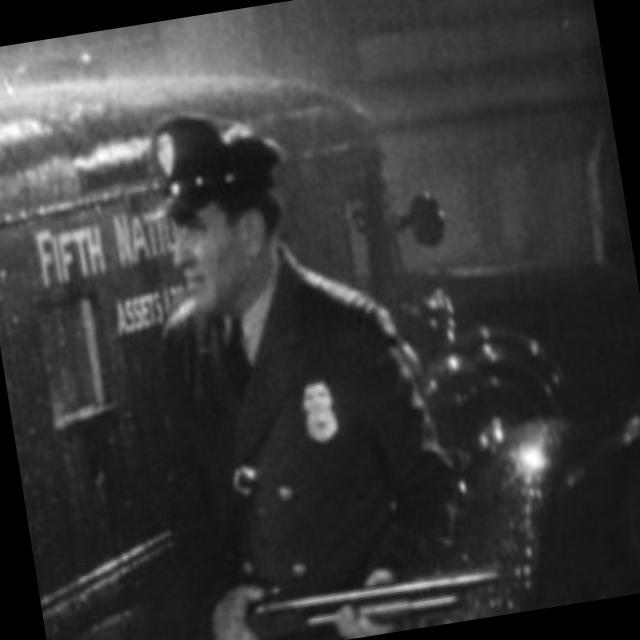Guns: (116, 518, 524, 640)
